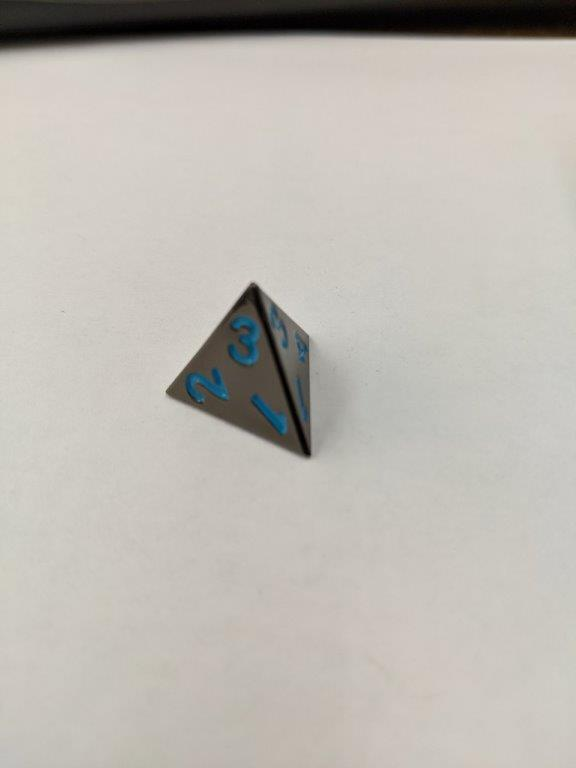d4-3: (162, 281, 316, 465)
